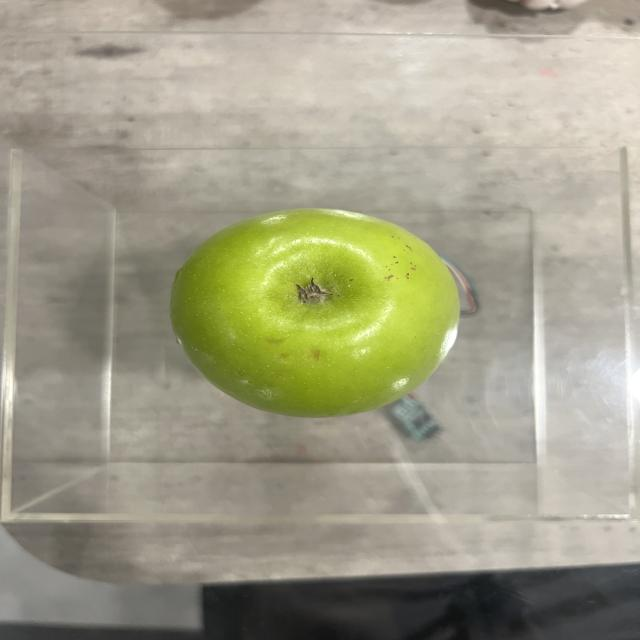green apple: (170, 207, 465, 418)
